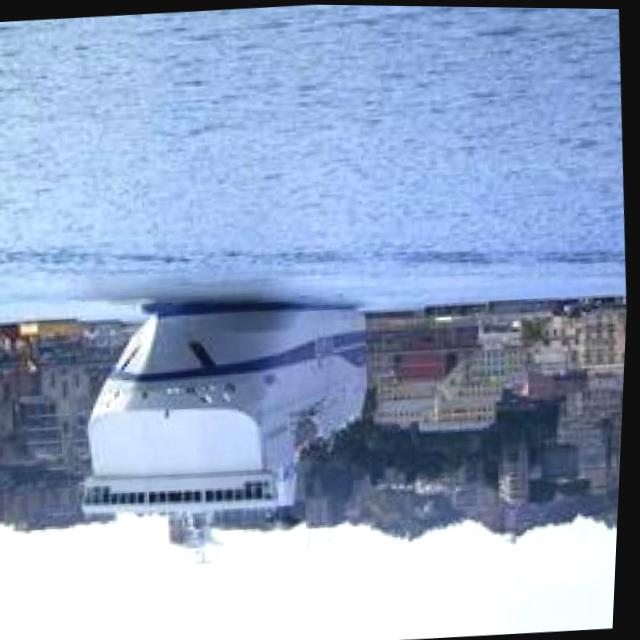ship2: (87, 299, 371, 548)
